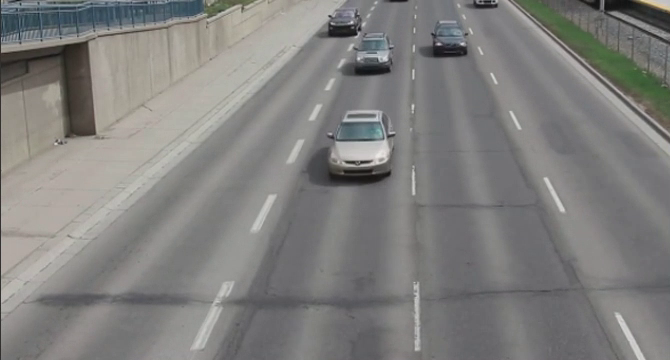car: (328, 113, 397, 184), (355, 34, 392, 75), (429, 19, 469, 55), (324, 7, 365, 38)
